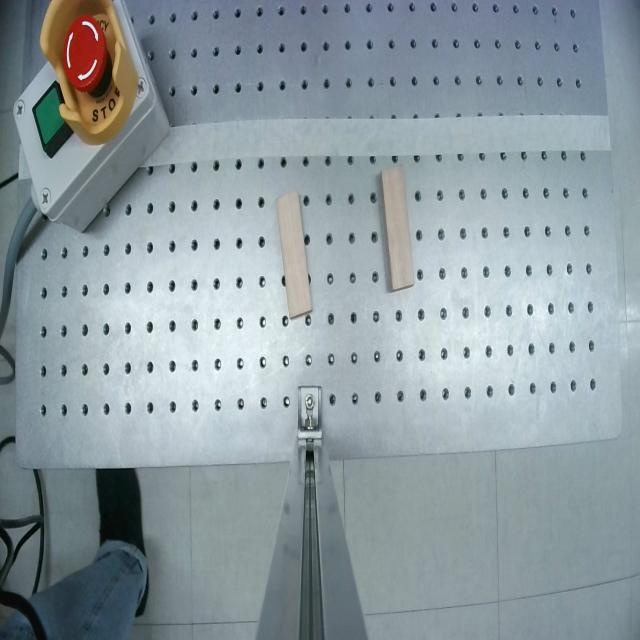wood: (275, 190, 313, 319), (381, 165, 416, 291)
